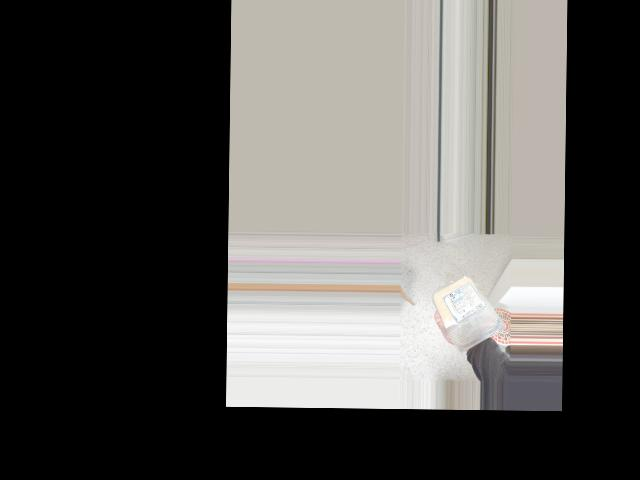cheese: (436, 273, 499, 345)
